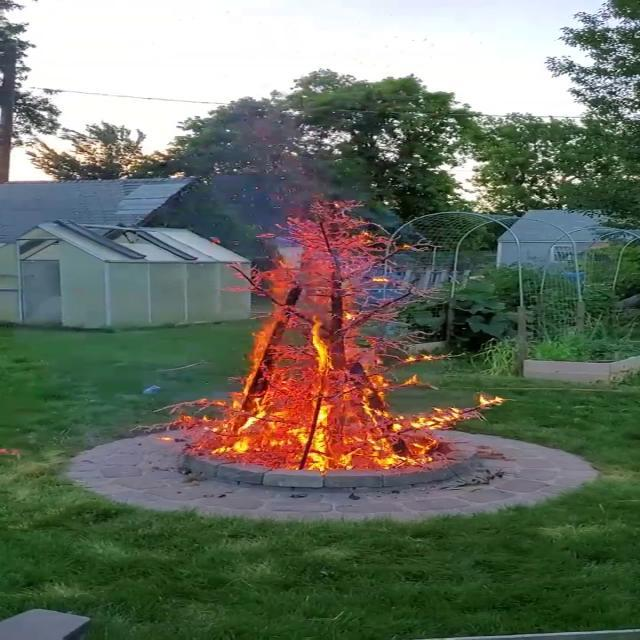Fire: (193, 195, 458, 473)
